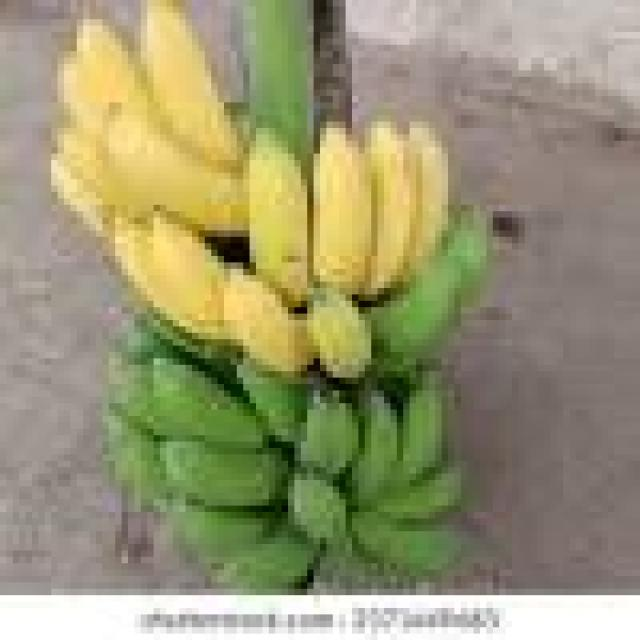Banana: (249, 125, 309, 306), (312, 121, 370, 294), (222, 265, 312, 373), (365, 120, 411, 296), (408, 120, 450, 267)
